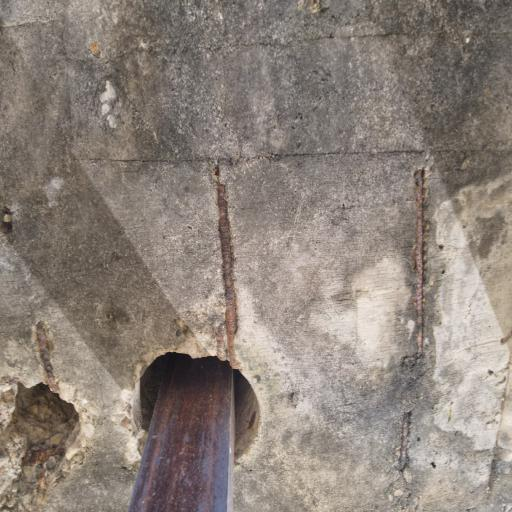exposed_rebar: (214, 162, 239, 368), (414, 169, 424, 356), (36, 322, 59, 393), (22, 448, 65, 466), (399, 412, 410, 471)
